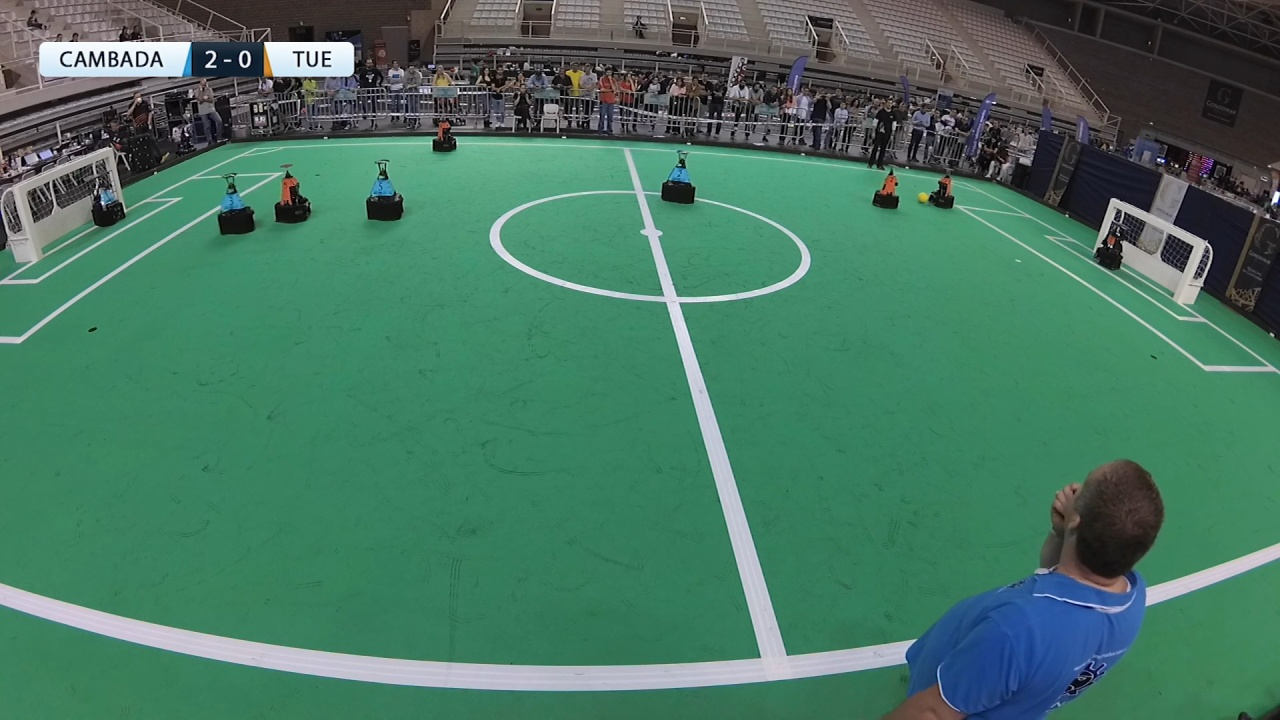BALL: (916, 192, 928, 204)
BLUE2: (657, 144, 693, 208)
BLUE3: (212, 170, 256, 237)
BLUE5: (357, 159, 410, 222)
B_Goalie: (83, 174, 127, 225)
RED2: (871, 157, 901, 210)
RED5: (272, 163, 313, 226)
R_Goalie: (1090, 221, 1132, 268)
Referee: (884, 455, 1164, 720)
